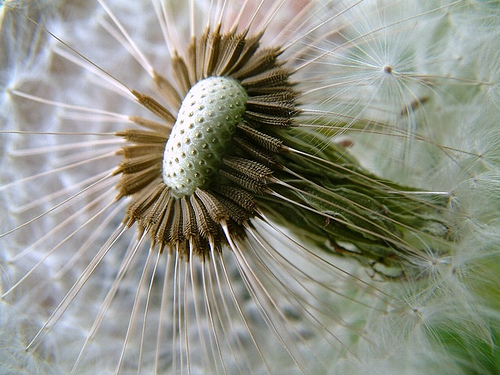dandelion: (5, 3, 491, 373)
